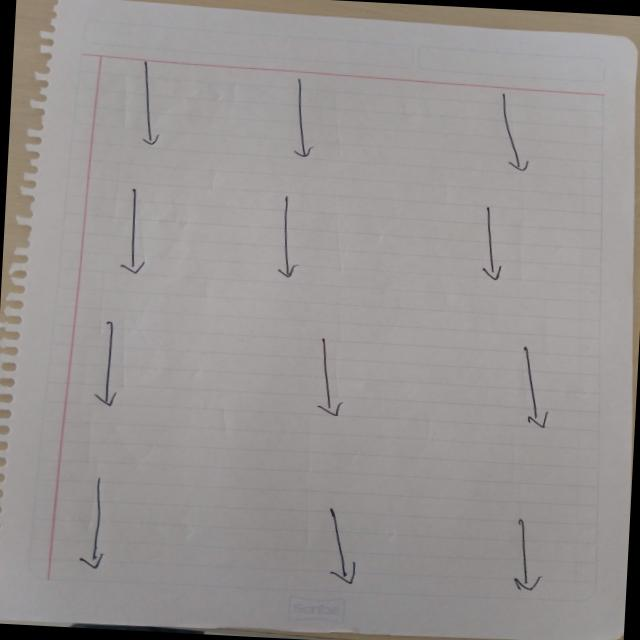arrow_line_down: (471, 86, 550, 176), (272, 73, 333, 162), (102, 181, 158, 276), (506, 337, 558, 427), (320, 504, 372, 588), (471, 202, 522, 286), (504, 511, 552, 598), (310, 332, 356, 418), (92, 318, 132, 412), (125, 55, 164, 149), (269, 192, 310, 281), (80, 473, 114, 573)
